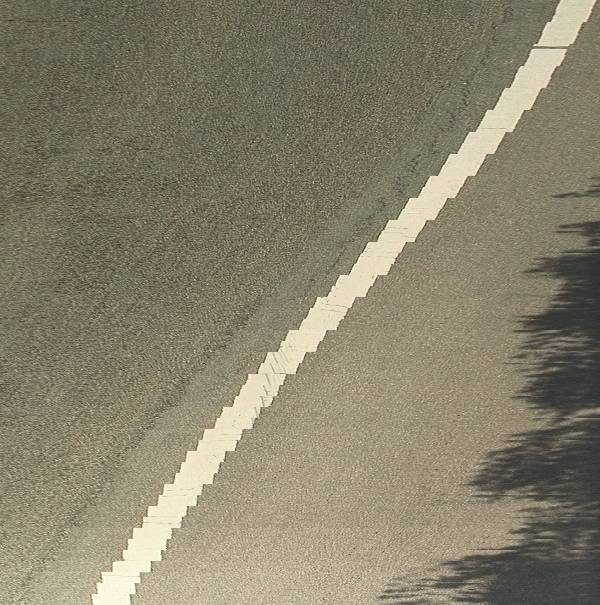road_damage: (343, 33, 500, 250)
